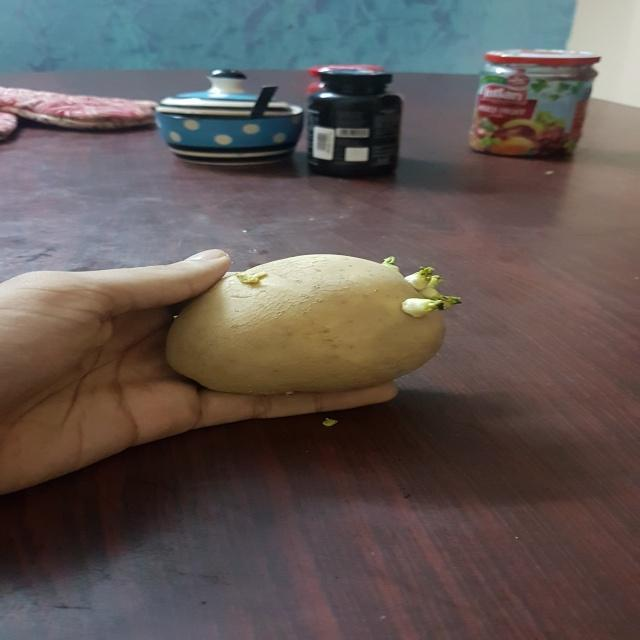potato: (159, 242, 462, 396)
